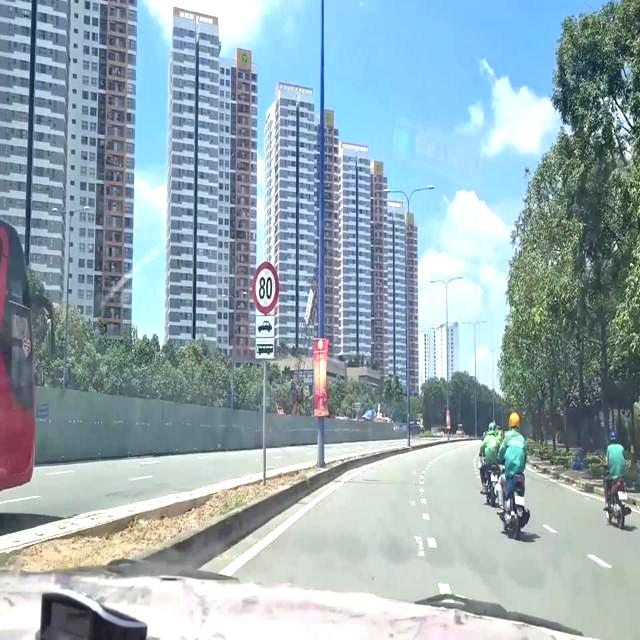Biển phụ: (249, 315, 276, 363)
Giới hạn tốc độ 80Km/h: (246, 251, 283, 313)
